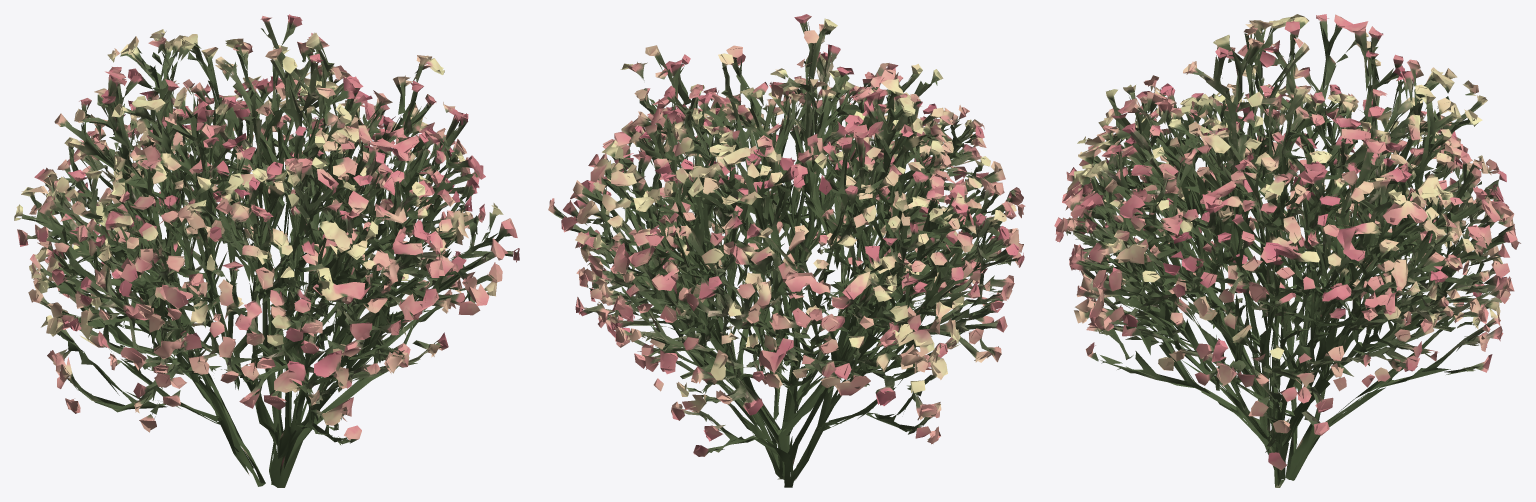
File: gypsophila-clump-lod.glb
3 renders of one model, left to right at view 1: azimuth 30°, elevation 25°; view 2: azimuth 150°, elevation 25°; view 3: azimuth 270°, elevation 25°, orthographic. The views are drawn at different scales.
Parts seen in each view (by area): view 1: world; view 2: world; view 3: world.
Boxes of the visible parts, <box> form: world: <box>14,14,519,487</box>; world: <box>548,14,1025,487</box>; world: <box>1054,14,1520,487</box>.
Bounding box in the file's own units: 0.4773 × 0.5 × 0.4786.
1 material, 1 textured.
